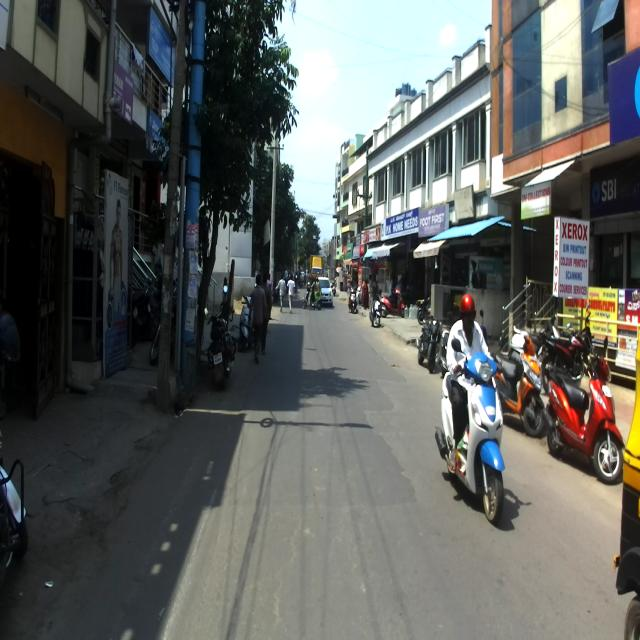electric pole ahead at: (159, 5, 194, 411)
motorcycle ahead at: (433, 338, 508, 528), (545, 352, 621, 481)
